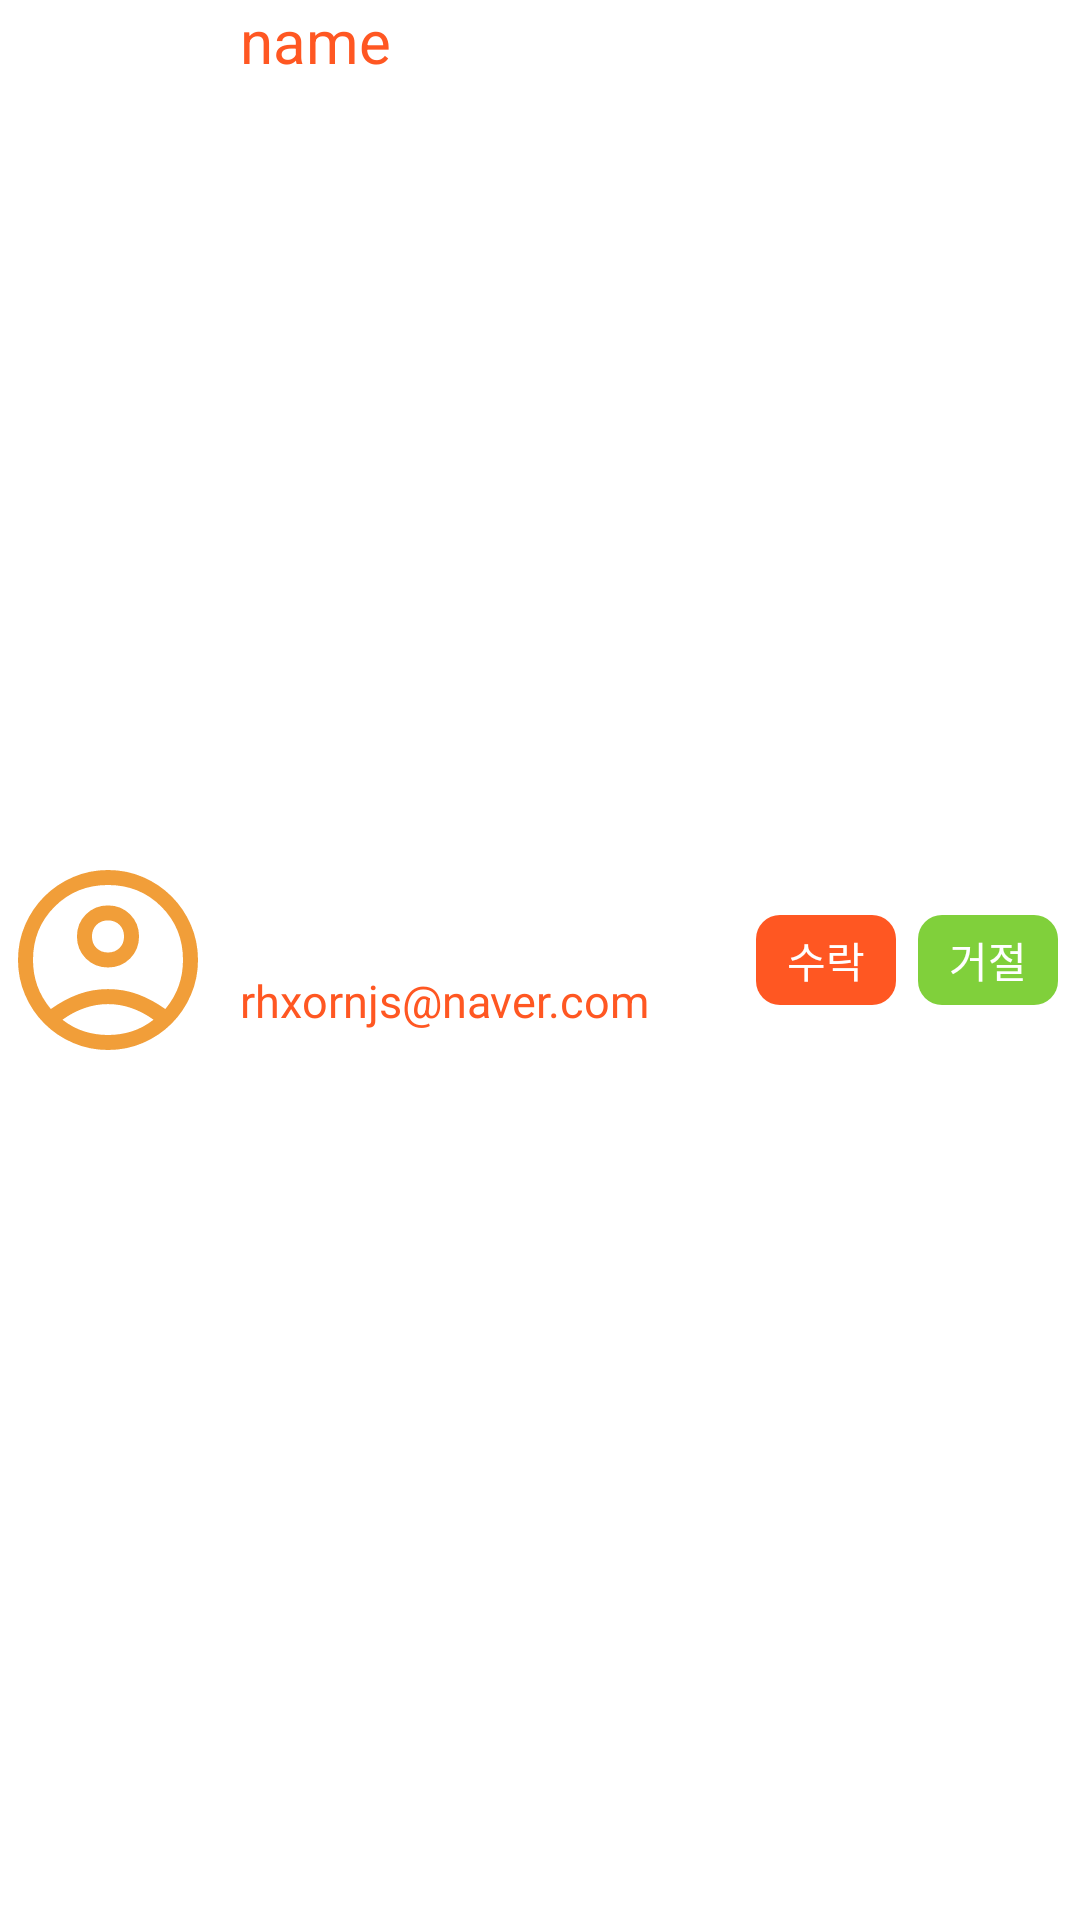

Icons on this 1080x1920 Android screen, each with its box as (x1, y1, x2, y2):
account circle: (18, 870, 198, 1050)
